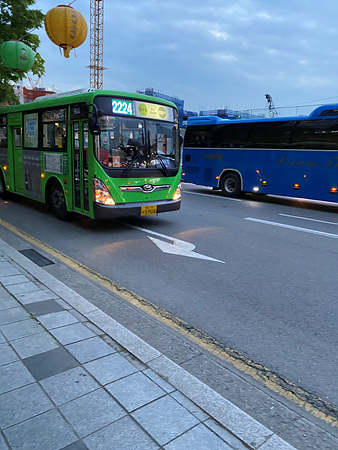entrance: (67, 111, 97, 219)
